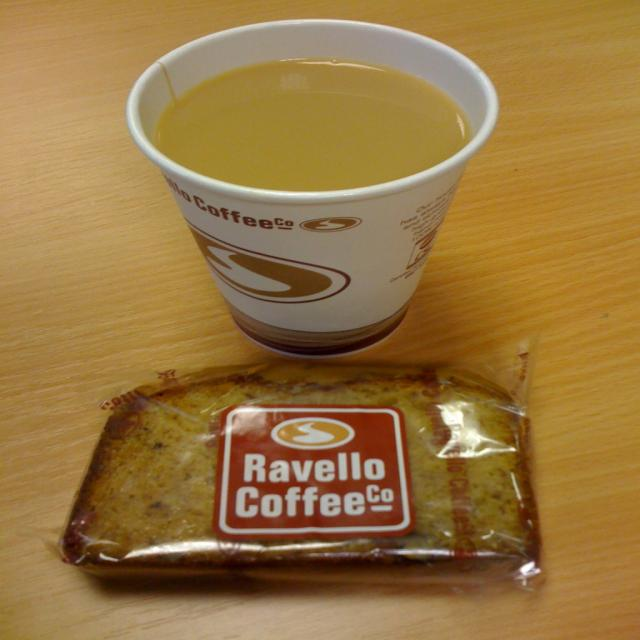Tea: (150, 57, 472, 191)
